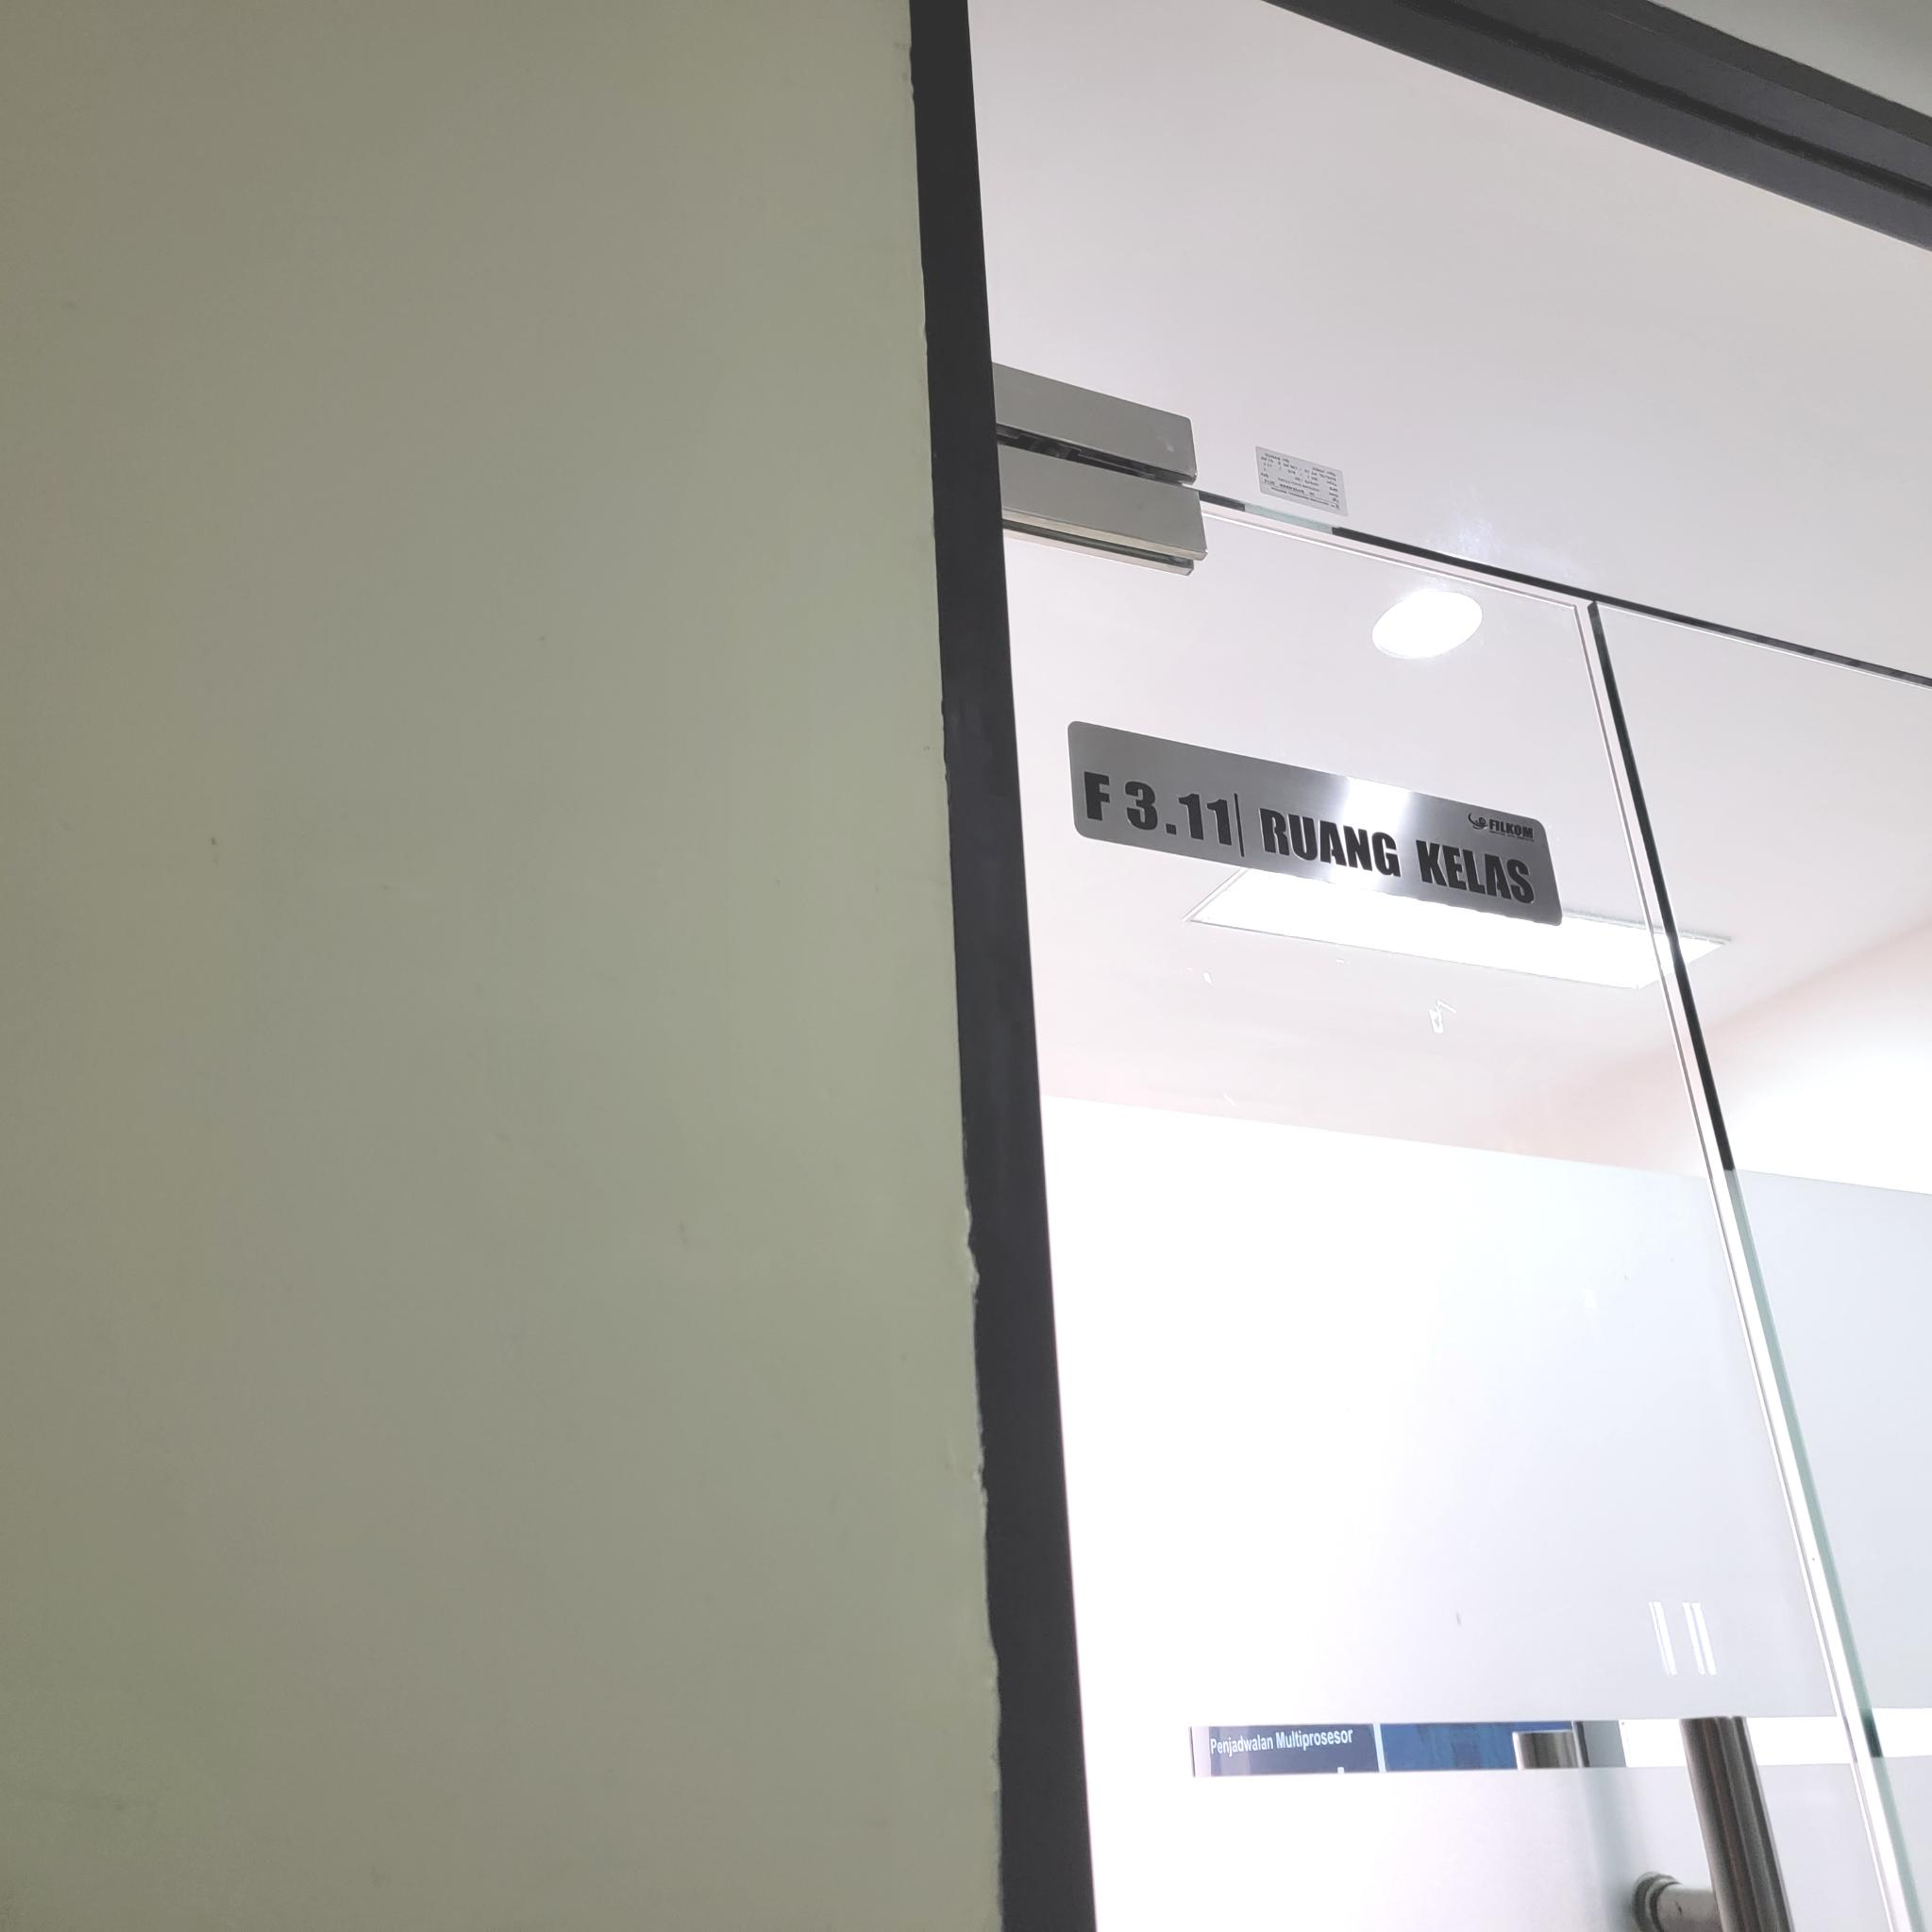plate: (1069, 720, 1566, 927)
